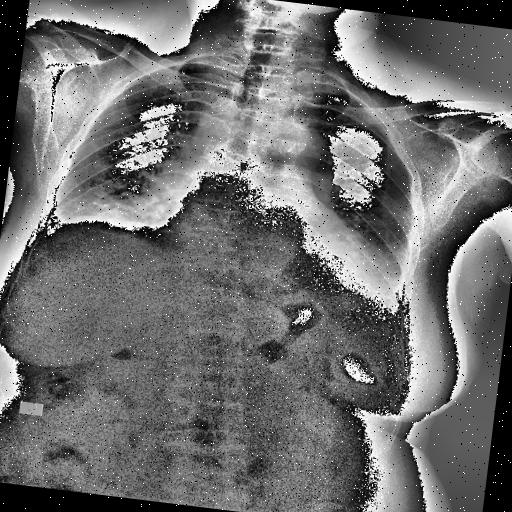0- Aortic enlargement: (255, 120, 340, 205), (260, 118, 340, 192), (246, 115, 338, 178)
10- Pleural effusion: (36, 186, 78, 245), (44, 204, 80, 244)
11- Pleural thickening: (36, 186, 78, 245), (44, 204, 80, 244)
3- Cardiomegaly: (152, 198, 398, 299), (147, 194, 383, 296), (162, 190, 380, 294)
